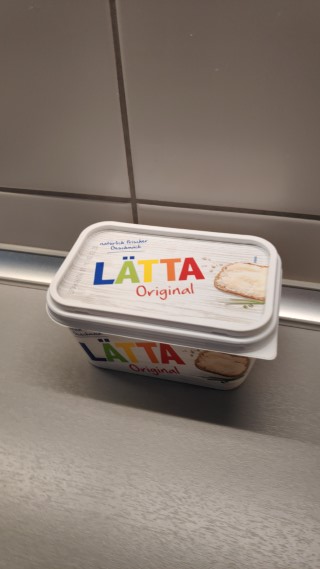laetta: (45, 218, 283, 391)
